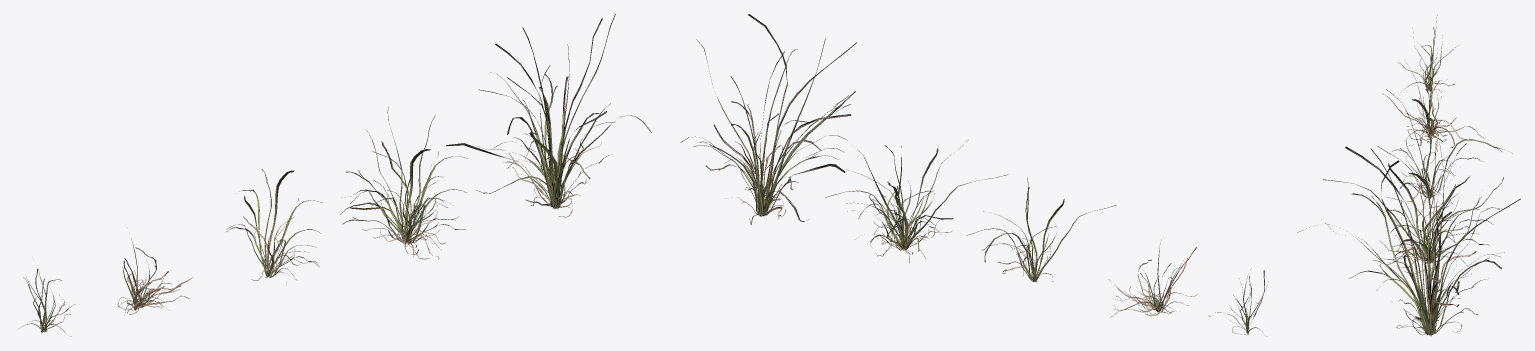
Rendered from grass_medium_02_1k.glb.
3 renders of one model, left to right at view 1: azimuth 30°, elevation 25°; view 2: azimuth 150°, elevation 25°; view 3: azimuth 270°, elevation 25°, orthographic. The views are drawn at different scales.
Parts seen in each view (by area): view 1: grass_medium_02_e, grass_medium_02_d, grass_medium_02_c, grass_medium_02_b, grass_medium_02_a; view 2: grass_medium_02_e, grass_medium_02_d, grass_medium_02_c, grass_medium_02_b, grass_medium_02_a; view 3: grass_medium_02_e, grass_medium_02_d, grass_medium_02_c, grass_medium_02_b, grass_medium_02_a.
Boxes of the visible parts, x1,y1,x2,y2 form: grass_medium_02_e: (446,14,651,217); grass_medium_02_d: (340,107,467,259); grass_medium_02_c: (226,169,322,280); grass_medium_02_b: (117,238,192,315); grass_medium_02_a: (19,268,74,336); grass_medium_02_e: (680,14,856,224); grass_medium_02_d: (825,140,1007,262); grass_medium_02_c: (966,177,1116,281); grass_medium_02_b: (1108,236,1197,317); grass_medium_02_a: (1209,269,1268,334); grass_medium_02_e: (1297,142,1520,335); grass_medium_02_d: (1323,143,1509,274); grass_medium_02_c: (1386,89,1512,215); grass_medium_02_b: (1382,48,1484,151); grass_medium_02_a: (1398,15,1455,92).
Size of the model in its own units: 1.31 by 0.4053 by 0.4332.
Materials: 1 (1 with a texture image).
